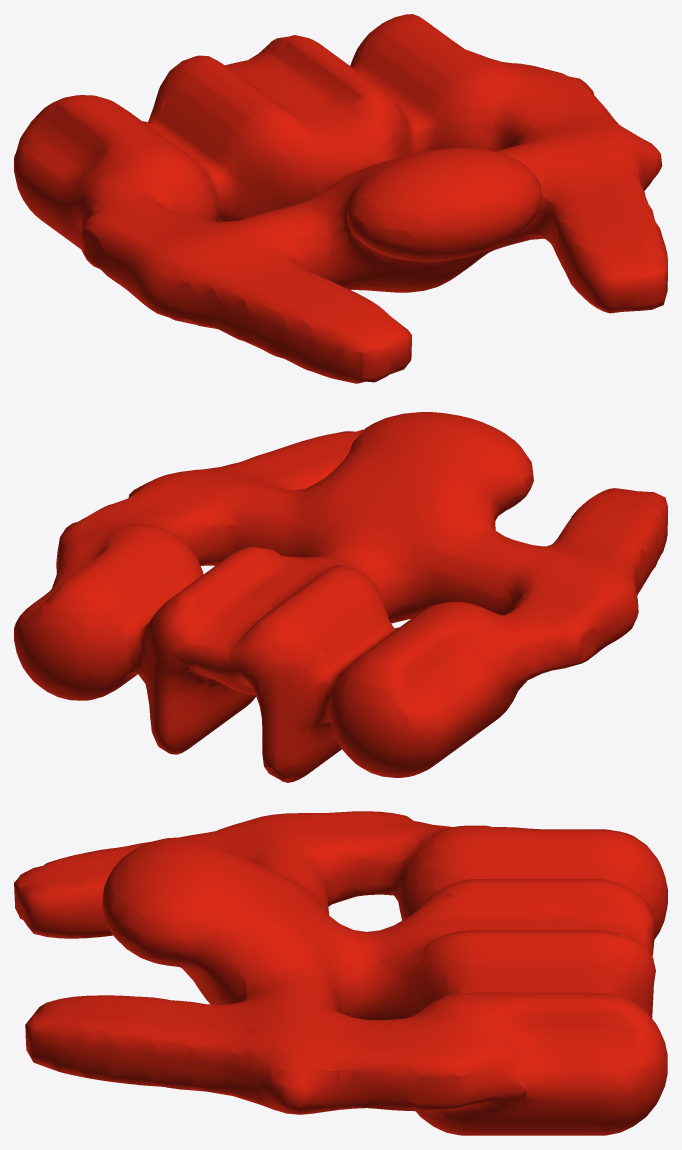
The model's file is racerblockoutoneobjectdecimated_body 1.fbx.
3 views of the same model, one above another, from view 1: azimuth 30°, elevation 25°; view 2: azimuth 150°, elevation 25°; view 3: azimuth 270°, elevation 25° (orthographic). The views are drawn at different scales.
Visible parts, largest first — view 1: Decimated racer.003; view 2: Decimated racer.003; view 3: Decimated racer.003.
Part boxes in pixels (x1=…): Decimated racer.003: x1=14, y1=14, x2=667, y2=383; Decimated racer.003: x1=14, y1=412, x2=667, y2=782; Decimated racer.003: x1=14, y1=811, x2=667, y2=1135.
Size of the model in its own units: 1258 by 488 by 1320.
